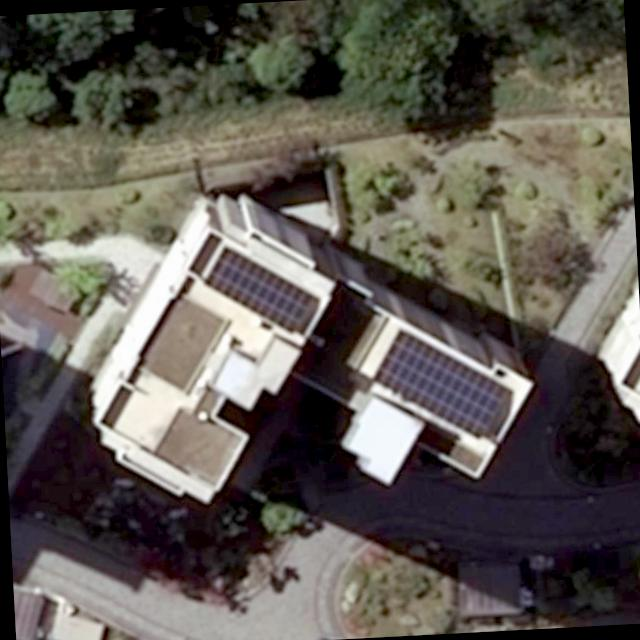solar: (368, 320, 516, 447), (198, 241, 321, 342)
